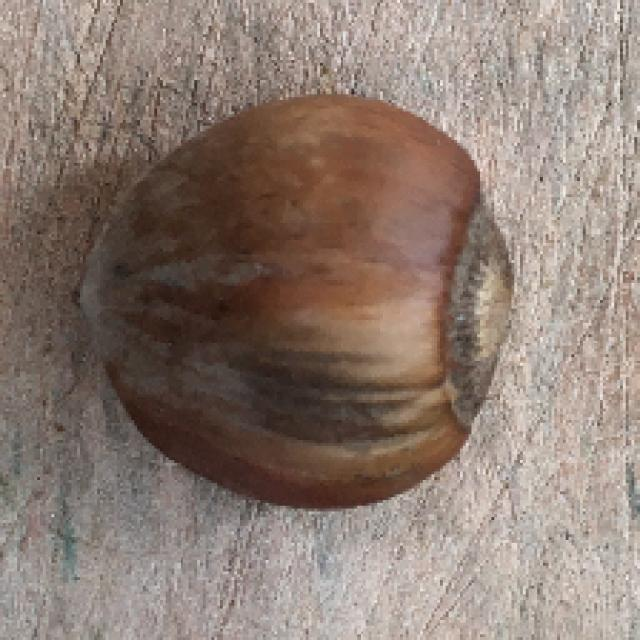damagedHazelnut: (71, 89, 524, 510)
